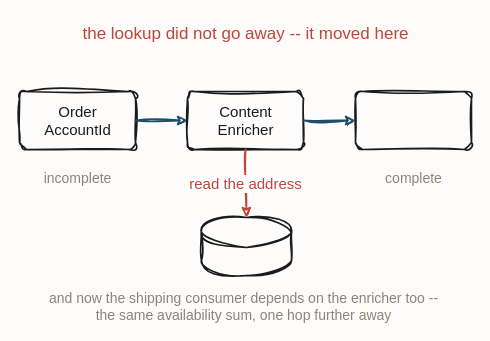
Some shapes in this 490 by 341 pixel diagram are drawn without their labels. The shapes that lost their labels are listed below. From the top down, each one's box as (x1, y1, x2, y2) in pixels, then its label:
(354, 90, 472, 150): Order + address
(200, 216, 292, 276): Customer
